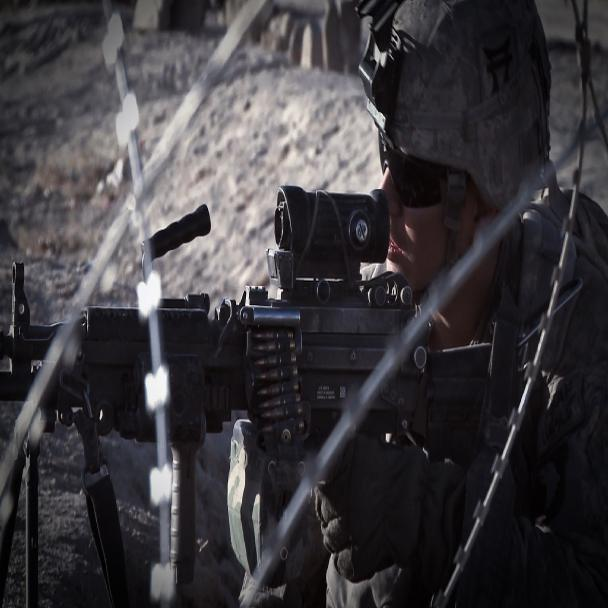Gun: (6, 176, 504, 482)
